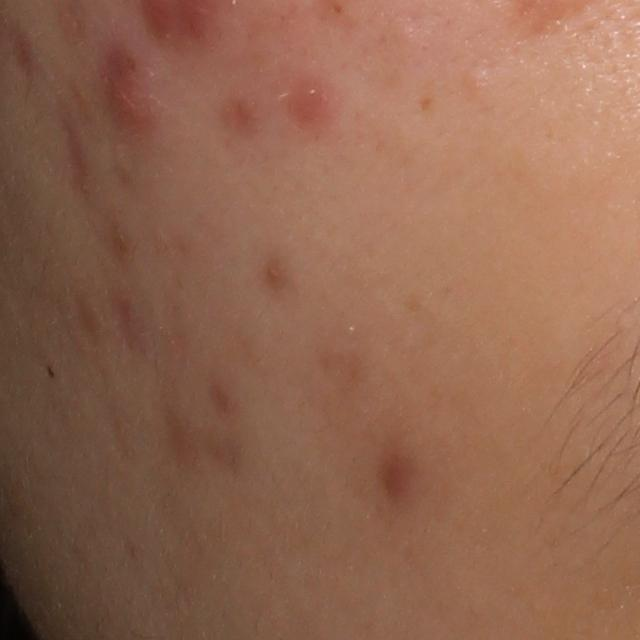comedo: (460, 65, 496, 100)
papule: (105, 77, 166, 134), (287, 73, 340, 130)
